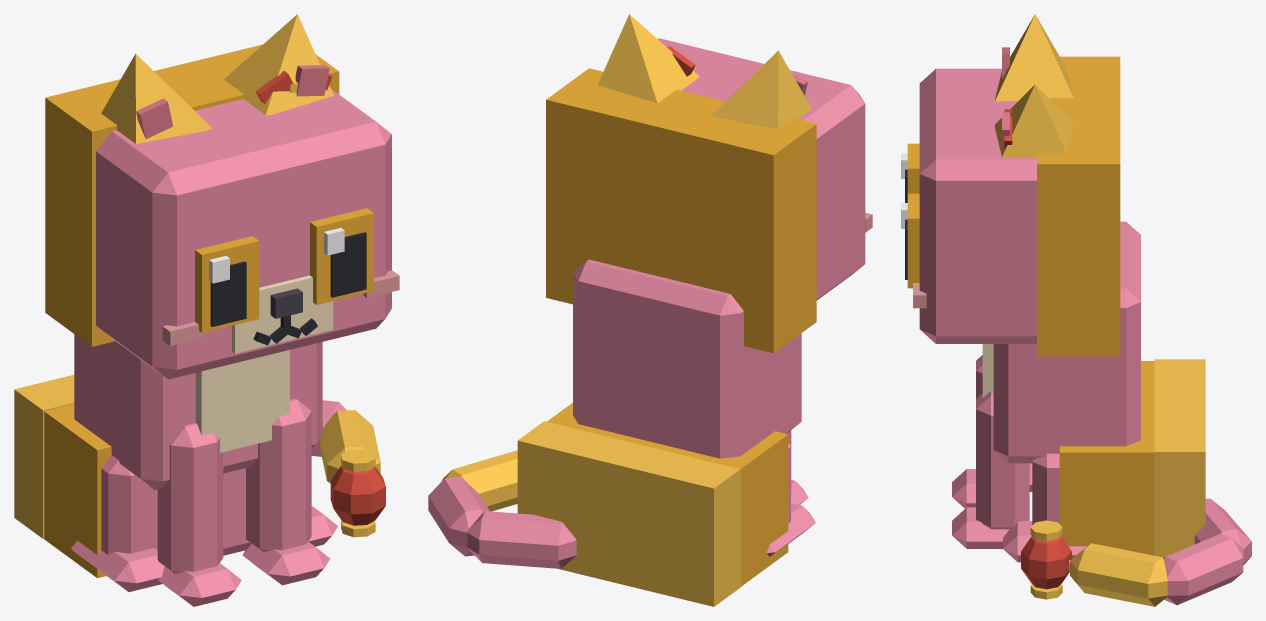
The model's file is CatCafe_Cat_PaperLantern_Sit.glb.
3 renders of one model, left to right at view 1: azimuth 30°, elevation 25°; view 2: azimuth 150°, elevation 25°; view 3: azimuth 270°, elevation 25°, orthographic. The views are drawn at different scales.
Parts seen in each view (by area): view 1: CatCafe_Cat_PaperLantern_Sit_Head, CatCafe_Cat_PaperLantern_Sit_Body, CatCafe_Cat_PaperLantern_Sit_LegF2, CatCafe_Cat_PaperLantern_Sit_LegF1, CatCafe_Cat_PaperLantern_Sit_Eye2, CatCafe_Cat_PaperLantern_Sit_EarL, CatCafe_Cat_PaperLantern_Sit_Eye1, CatCafe_Cat_PaperLantern_Sit_EarR, CatCafe_Cat_PaperLantern_Sit_Tail_Glow, CatCafe_Cat_PaperLantern_Sit_Tail, CatCafe_Cat_PaperLantern_Sit_Prop; view 2: CatCafe_Cat_PaperLantern_Sit_Body, CatCafe_Cat_PaperLantern_Sit_Head, CatCafe_Cat_PaperLantern_Sit_Tail, CatCafe_Cat_PaperLantern_Sit_EarL, CatCafe_Cat_PaperLantern_Sit_EarR; view 3: CatCafe_Cat_PaperLantern_Sit_Head, CatCafe_Cat_PaperLantern_Sit_Body, CatCafe_Cat_PaperLantern_Sit_Tail, CatCafe_Cat_PaperLantern_Sit_LegF1, CatCafe_Cat_PaperLantern_Sit_EarR, CatCafe_Cat_PaperLantern_Sit_EarL, CatCafe_Cat_PaperLantern_Sit_Tail_Glow, CatCafe_Cat_PaperLantern_Sit_Eye1, CatCafe_Cat_PaperLantern_Sit_LegF2, CatCafe_Cat_PaperLantern_Sit_Eye2.
Boxes of the visible parts, <box> form: CatCafe_Cat_PaperLantern_Sit_Head: <box>45,44,399,379</box>; CatCafe_Cat_PaperLantern_Sit_Body: <box>14,334,337,591</box>; CatCafe_Cat_PaperLantern_Sit_LegF2: <box>157,423,241,606</box>; CatCafe_Cat_PaperLantern_Sit_LegF1: <box>242,398,330,585</box>; CatCafe_Cat_PaperLantern_Sit_Eye2: <box>195,236,259,332</box>; CatCafe_Cat_PaperLantern_Sit_EarL: <box>224,14,333,115</box>; CatCafe_Cat_PaperLantern_Sit_Eye1: <box>310,208,373,304</box>; CatCafe_Cat_PaperLantern_Sit_EarR: <box>101,53,212,143</box>; CatCafe_Cat_PaperLantern_Sit_Tail_Glow: <box>330,449,385,537</box>; CatCafe_Cat_PaperLantern_Sit_Tail: <box>311,400,380,483</box>; CatCafe_Cat_PaperLantern_Sit_Prop: <box>255,71,332,103</box>; CatCafe_Cat_PaperLantern_Sit_Body: <box>517,259,815,606</box>; CatCafe_Cat_PaperLantern_Sit_Head: <box>546,38,872,353</box>; CatCafe_Cat_PaperLantern_Sit_Tail: <box>428,450,576,568</box>; CatCafe_Cat_PaperLantern_Sit_EarL: <box>597,14,699,103</box>; CatCafe_Cat_PaperLantern_Sit_EarR: <box>711,50,811,128</box>; CatCafe_Cat_PaperLantern_Sit_Head: <box>913,56,1120,356</box>; CatCafe_Cat_PaperLantern_Sit_Body: <box>982,221,1205,562</box>; CatCafe_Cat_PaperLantern_Sit_Tail: <box>1070,498,1251,606</box>; CatCafe_Cat_PaperLantern_Sit_LegF1: <box>952,391,1029,548</box>; CatCafe_Cat_PaperLantern_Sit_EarR: <box>995,14,1073,101</box>; CatCafe_Cat_PaperLantern_Sit_EarL: <box>995,85,1073,157</box>; CatCafe_Cat_PaperLantern_Sit_Tail_Glow: <box>1021,520,1071,599</box>; CatCafe_Cat_PaperLantern_Sit_Eye1: <box>901,193,919,288</box>; CatCafe_Cat_PaperLantern_Sit_LegF2: <box>952,355,982,508</box>; CatCafe_Cat_PaperLantern_Sit_Eye2: <box>901,143,919,202</box>.
Bounding box in the file's own units: 1.25 × 1.87 × 1.24.
Materials: 1 (1 with a texture image).
